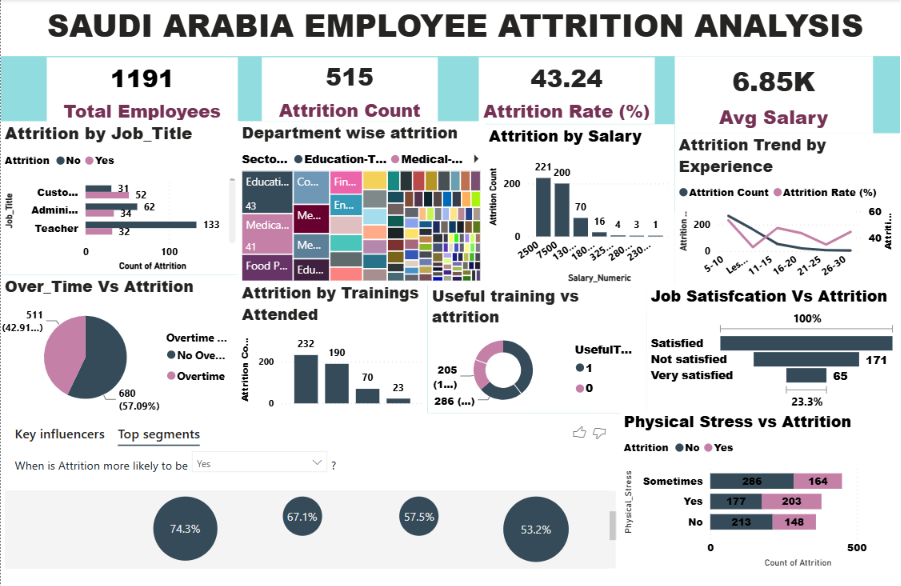

What the dashboard file says about the page in this screenshot:
{"tool":"powerbi","page":{"name":"Duplicate of Demographics ","canvas":[1280,720],"ordinal":0},"visuals":[{"type":"slicer","fields":{"Values":["Employee Demographics.Gender "]},"box":[1100.5,0,179.8,88],"z":0,"group":"g1"},{"type":"card","fields":{"Values":["Employee.Total Employees"]},"box":[56.3,70.9,233.6,81.9],"z":0},{"type":"card","fields":{"Values":["Employee.Attrition Count"]},"box":[319.2,70.9,215.2,78.3],"z":1000},{"type":"slicer","fields":{"Values":["Job_and_Compensation.Sector-Department"]},"box":[1100.5,88,179.8,174.9],"z":1000,"group":"g1"},{"type":"card","fields":{"Values":["Employee.Attrition Rate (%)"]},"box":[584.5,70.9,215.2,81.9],"z":2000},{"type":"slicer","fields":{"Values":["Job_and_Compensation.Job_Title"]},"box":[1100.5,262.9,179.8,154.1],"z":2000,"group":"g1"},{"type":"textbox","box":[0,0,1100.5,69.7],"z":3000},{"type":"slicer","fields":{"Values":["Employee Demographics.Age_Category"]},"box":[1100.5,417,179.8,146.7],"z":3000,"group":"g1"},{"type":"card","fields":{"Values":["Employee.Avg Salary"]},"box":[824.2,69.7,242.1,94.2],"z":4000},{"type":"slicer","fields":{"Values":["Job_and_Compensation.Salary_Level"]},"box":[1100.5,563.7,179.8,85.6],"z":4000,"group":"g1"},{"type":"clusteredBarChart","title":"Attrition by Job_Title","fields":{"Category":["Job_and_Compensation.Job_Title"],"Y":["CountNonNull(Employee Demographics.Attrition)"],"Series":["Employee Demographics.Attrition"]},"box":[0,149.2,292.3,188.3],"z":5000},{"type":"slicer","fields":{"Values":["Job_and_Compensation.Years_Experience"]},"box":[1100.5,644.4,179.8,75.8],"z":5000,"group":"g1"},{"type":"treemap","title":"Department wise attrition","fields":{"Group":["Job_and_Compensation.Sector-Department"],"Values":["Employee.Attrition Count"]},"box":[289.8,149.2,302,200.5],"z":6000},{"type":"clusteredColumnChart","title":"Attrition by Salary","fields":{"Category":["Job_and_Compensation.Salary_Numeric"],"Y":["Employee Demographics.Attrition Count"]},"box":[591.9,152.9,232.3,199.3],"z":7000},{"type":"lineChart","title":"Attrition  Trend by Experience","fields":{"Y":["Employee.Attrition Count"],"Y2":["Employee Demographics.Attrition Rate (%)"],"Category":["Job_and_Compensation.Years_Experience"]},"box":[824.2,163.9,276.4,188.3],"z":8000},{"type":"pieChart","title":"Over_Time Vs Attrition","fields":{"Category":["Job_and_Compensation.Overtime Category"],"Y":["CountNonNull(Employee Demographics.Attrition)"]},"box":[0,337.5,292.3,174.9],"z":9000},{"type":"columnChart","title":"Attrition by Trainings Attended","fields":{"Category":["Training details.Training_Programs_Attended"],"Y":["Employee Demographics.Attrition Count"]},"box":[289.8,344.8,232.3,162.6],"z":10000},{"type":"donutChart","title":"Useful training vs attrition","fields":{"Y":["CountNonNull(Employee Demographics.Attrition)"],"Series":["Employee Demographics.Attrition"],"Category":["Training details.UsefulTrainingFlag"]},"box":[522.1,348.5,267.8,157.7],"z":11000},{"type":"funnel","title":" Job Satisfcation Vs Attrition","fields":{"Category":["Satisfaction and attrition.Job_Satisfaction"],"Y":["Employee Demographics.Attrition Count"]},"box":[789.9,348.5,310.6,157.7],"z":12000},{"type":"barChart","title":"Physical Stress vs Attrition","fields":{"Category":["Satisfaction and attrition.Physical_Stress"],"Y":["CountNonNull(Employee Demographics.Attrition)"],"Series":["Employee Demographics.Attrition"]},"box":[756.9,502.6,343.6,198.1],"z":13000},{"type":"keyDriversVisual","fields":{"Target":["Employee Demographics.Attrition"],"ExplainBy":["Satisfaction and attrition.Rewards&Wages_Satisfaction","Satisfaction and attrition.Physical_Stress","Training details.UsefulTrainingFlag","Job_and_Compensation.Bonus","Job_and_Compensation.Over_Time","Satisfaction and attrition.Job_Satisfaction","Satisfaction and attrition.Job_Engagement","Satisfaction and attrition.Job_Support","Job_and_Compensation.Promotion_Status"]},"box":[0,506.3,756.9,194.4],"z":14000},{"type":"group","id":"g1","title":"Group 1","box":[1100.5,0,179.8,720.2],"z":14007}]}

Visuals, with their boxes on the page's 1280x720 design canvas (x1, y1, x2, y2). These are canvas units, not pixel positions in the 901x586 screenshot, which may show the page scaled, cropped or inside an application window:
slicer - Employee Demographics.Gender : detection(1100, 0, 1280, 88)
card - Employee.Total Employees: detection(56, 71, 290, 153)
card - Employee.Attrition Count: detection(319, 71, 534, 149)
slicer - Job_and_Compensation.Sector-Department: detection(1100, 88, 1280, 263)
card - Employee.Attrition Rate (%): detection(584, 71, 800, 153)
slicer - Job_and_Compensation.Job_Title: detection(1100, 263, 1280, 417)
textbox: detection(0, 0, 1100, 70)
slicer - Employee Demographics.Age_Category: detection(1100, 417, 1280, 564)
card - Employee.Avg Salary: detection(824, 70, 1066, 164)
slicer - Job_and_Compensation.Salary_Level: detection(1100, 564, 1280, 649)
"Attrition by Job_Title" clusteredBarChart: detection(0, 149, 292, 338)
slicer - Job_and_Compensation.Years_Experience: detection(1100, 644, 1280, 720)
"Department wise attrition" treemap: detection(290, 149, 592, 350)
"Attrition by Salary" clusteredColumnChart: detection(592, 153, 824, 352)
"Attrition  Trend by Experience" lineChart: detection(824, 164, 1101, 352)
"Over_Time Vs Attrition" pieChart: detection(0, 338, 292, 512)
"Attrition by Trainings Attended" columnChart: detection(290, 345, 522, 507)
"Useful training vs attrition" donutChart: detection(522, 348, 790, 506)
" Job Satisfcation Vs Attrition" funnel: detection(790, 348, 1100, 506)
"Physical Stress vs Attrition" barChart: detection(757, 503, 1100, 701)
keyDriversVisual - Employee Demographics.Attrition x Satisfaction and attrition.Rewards&Wages_Satisfaction: detection(0, 506, 757, 701)
"Group 1" group: detection(1100, 0, 1280, 720)
